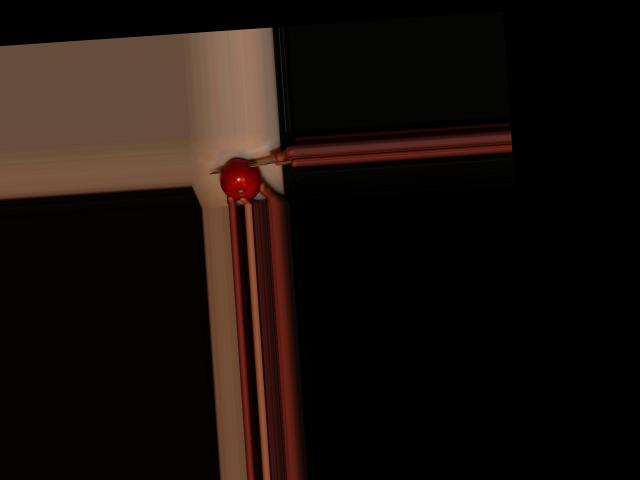tomato: (218, 157, 262, 201)
